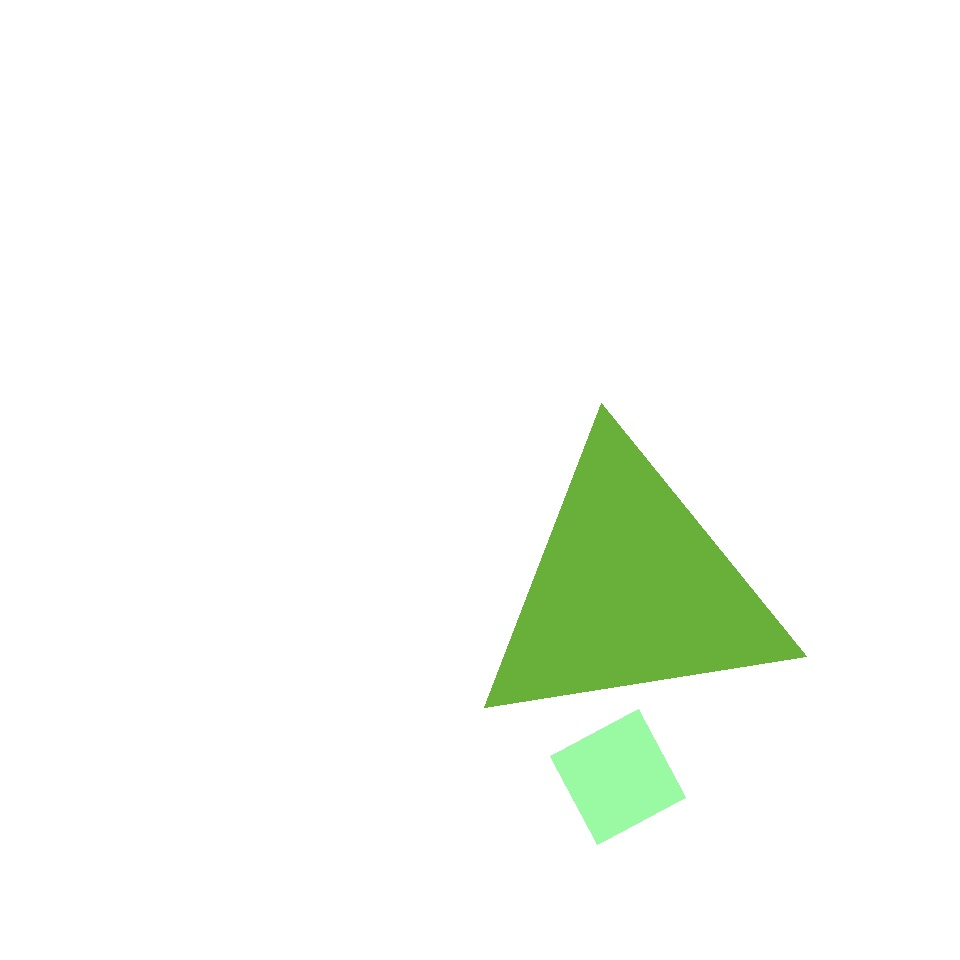circle: (470, 437, 792, 741), (382, 618, 480, 708)
square: (158, 92, 494, 430), (603, 158, 864, 418), (550, 710, 686, 844), (259, 55, 352, 148)
triangle: (462, 614, 780, 931)
